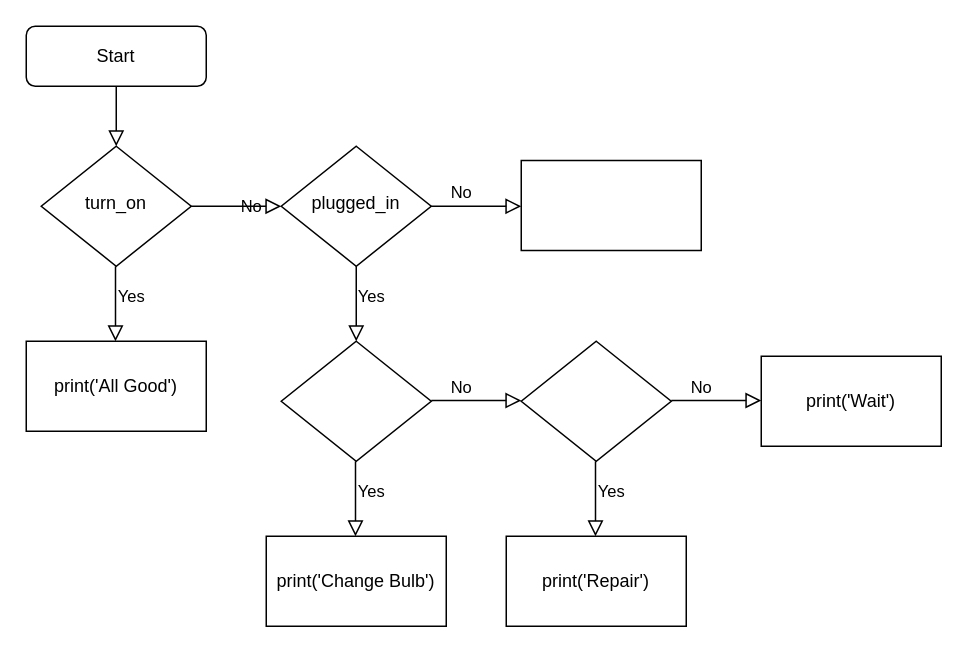
This 968x653 diagram has some shape labels left out. Here are the shapes that lost their labels. From the top down, the centre of each, then its label:
At point (610, 204): "print('Plug In')".
At point (355, 400): "burned_out".
At point (595, 400): "have_power".
